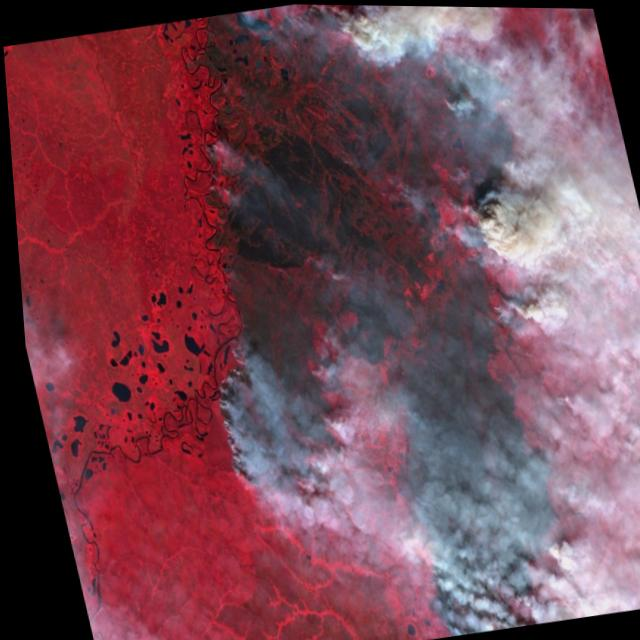fire: (190, 337, 275, 496), (426, 168, 497, 268), (185, 116, 244, 215), (485, 291, 516, 327)
